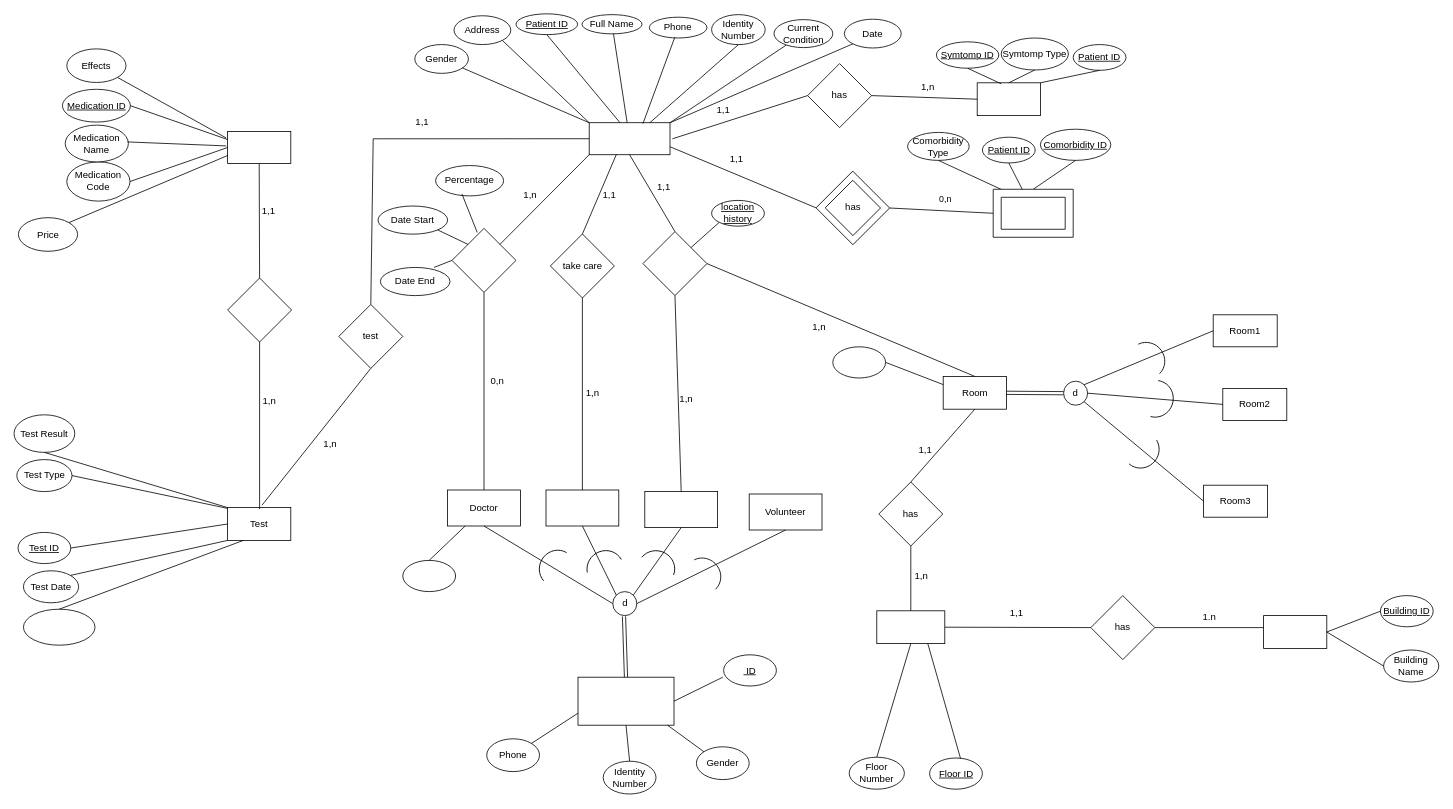
Some shapes in this 1453 by 809 pixel diagram are drawn without their labels. The shapes that lost their labels are listed below. From the top down, each one's centre as x and y in pixels, then its label:
(x=1008, y=99): Symtomp
(x=259, y=147): Medication
(x=629, y=138): Patient
(x=1032, y=212): Comorbidity
(x=483, y=260): treatment
(x=674, y=263): admits
(x=259, y=309): inlude
(x=859, y=362): Room ID
(x=582, y=507): Nurse
(x=681, y=509): Staff
(x=429, y=576): position
(x=59, y=626): Cycle Threshold
(x=910, y=627): Floor
(x=1295, y=631): Building
(x=625, y=700): Quarantine camp Staff
